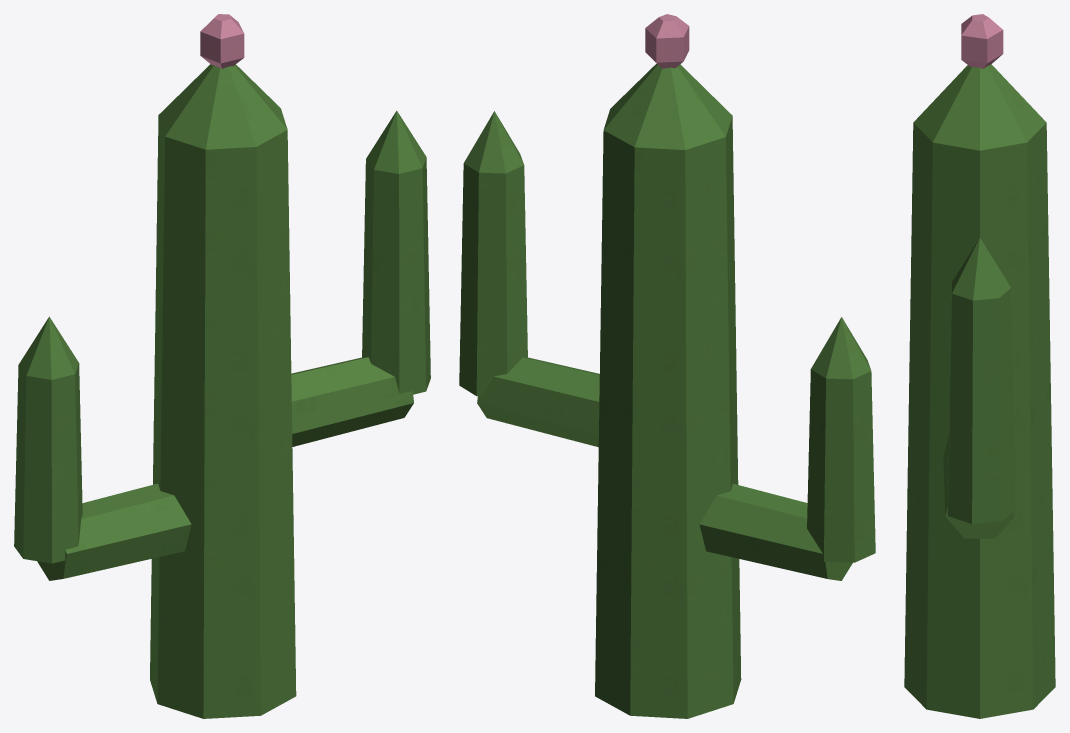
File: cactus_01.glb
3 renders of one model, left to right at view 1: azimuth 30°, elevation 25°; view 2: azimuth 150°, elevation 25°; view 3: azimuth 270°, elevation 25°, orthographic.
Parts seen in each view (by area): view 1: cactus_01; view 2: cactus_01; view 3: cactus_01.
Boxes of the visible parts, box(x1,y1,x2,y2) form: cactus_01: box(14, 14, 430, 718); cactus_01: box(459, 14, 875, 718); cactus_01: box(904, 14, 1055, 718).
Bounding box in the file's own units: 2.11 × 3.32 × 0.6801.
Materials: 3 (3 with a texture image).
